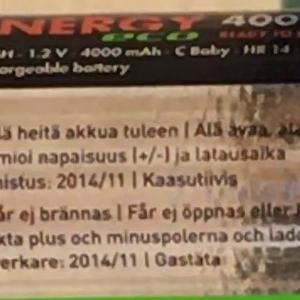keyword: (236, 136, 280, 171)
